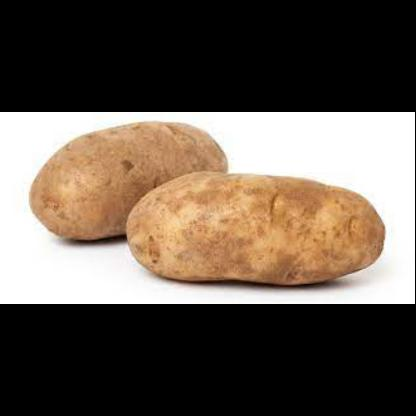potato: (127, 171, 388, 285), (29, 120, 229, 240)
